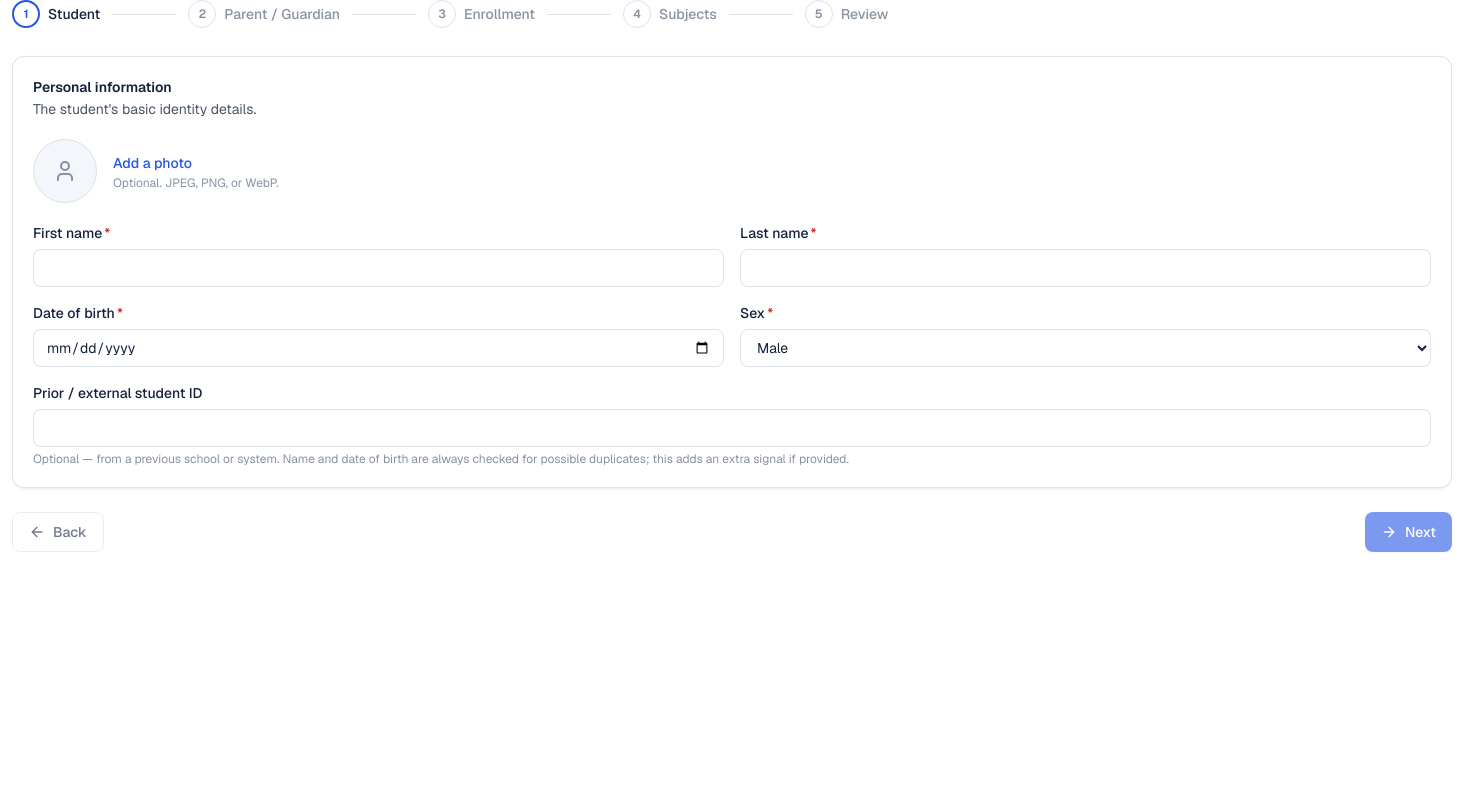
Scenario: StudentWizard — step navigation › advances through steps in order as each is completed
Check: the heading "Personal information" is shown, box [33,78,172,96]
Type "Hodan" into the field labelled "First name" at (378, 268), box [33,249,724,287]
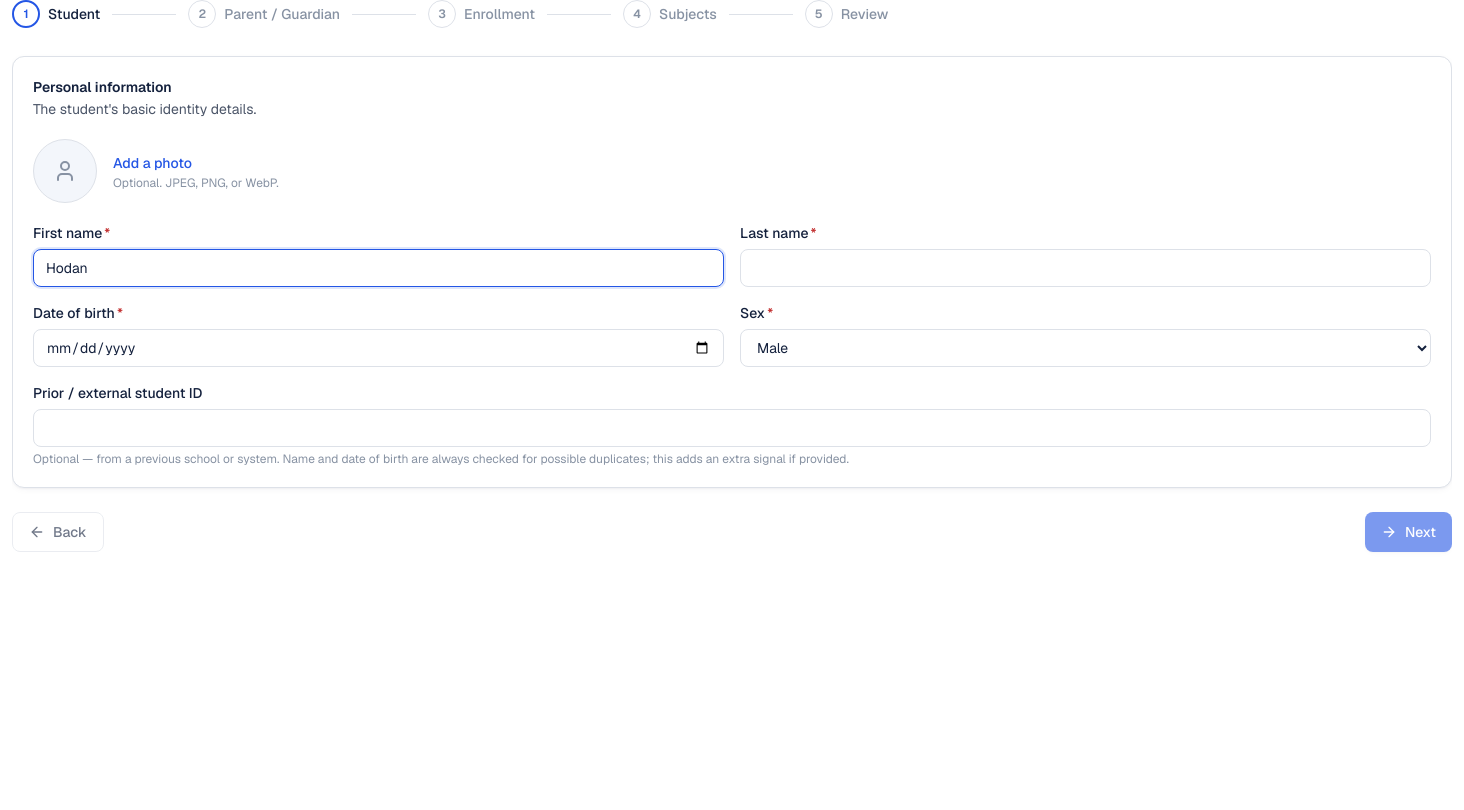
Type "Ali" into the field labelled "Last name" at (1086, 268), box [740,249,1431,287]
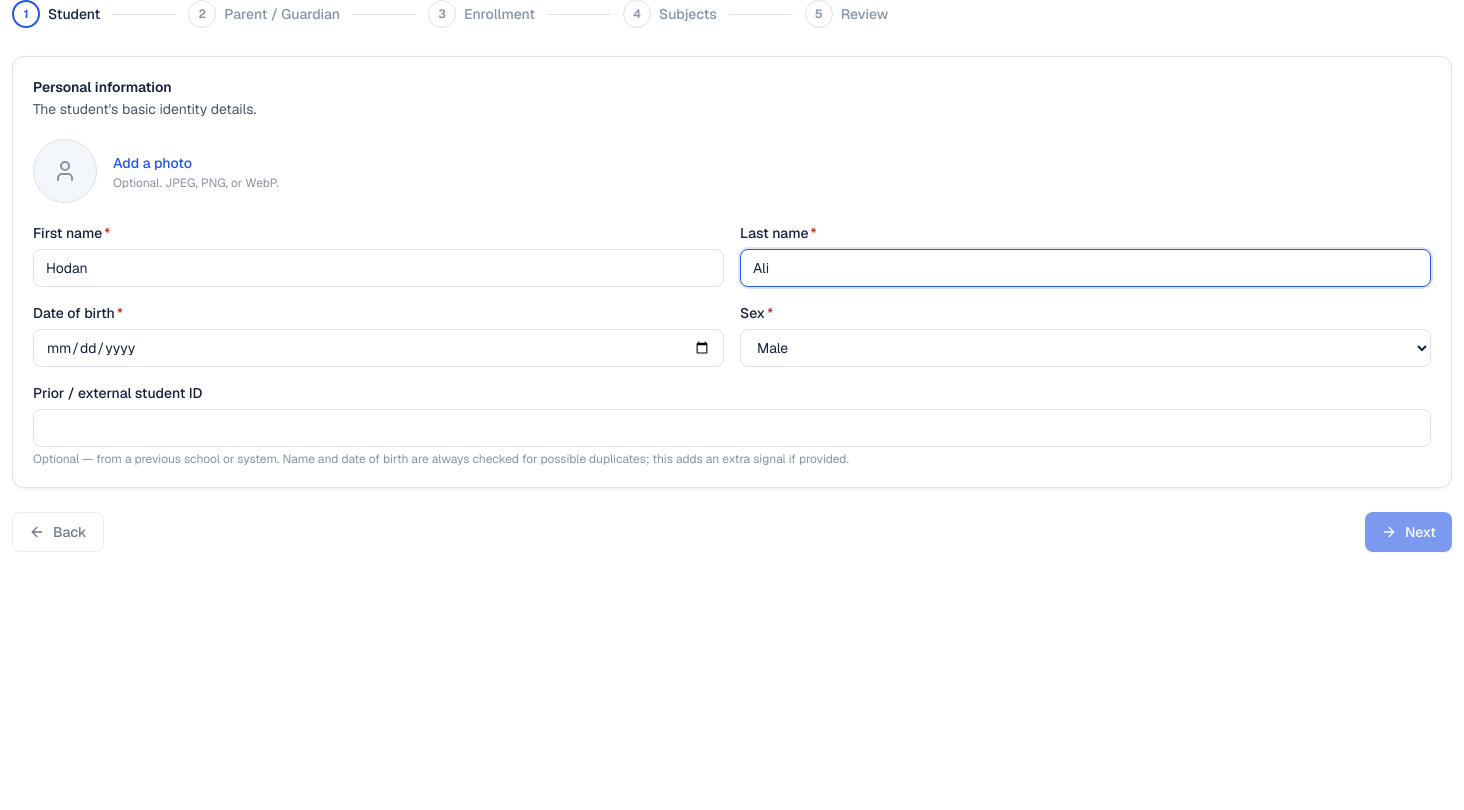
Type "2015-05-01" into the date field labelled "Date of birth" at (378, 348), box [33,329,724,367]
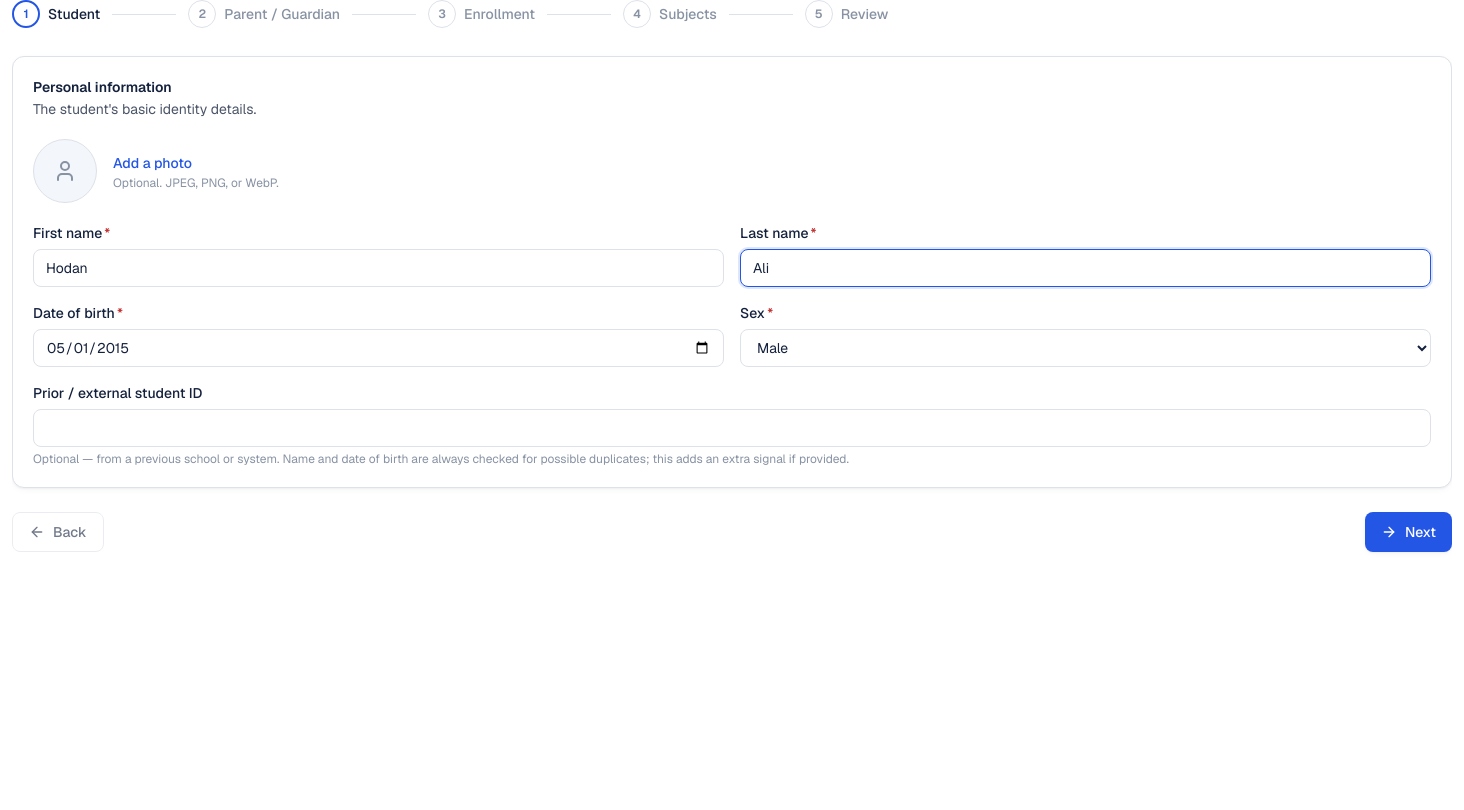
Click the button "Next" at (1408, 532), box [1365,512,1452,552]
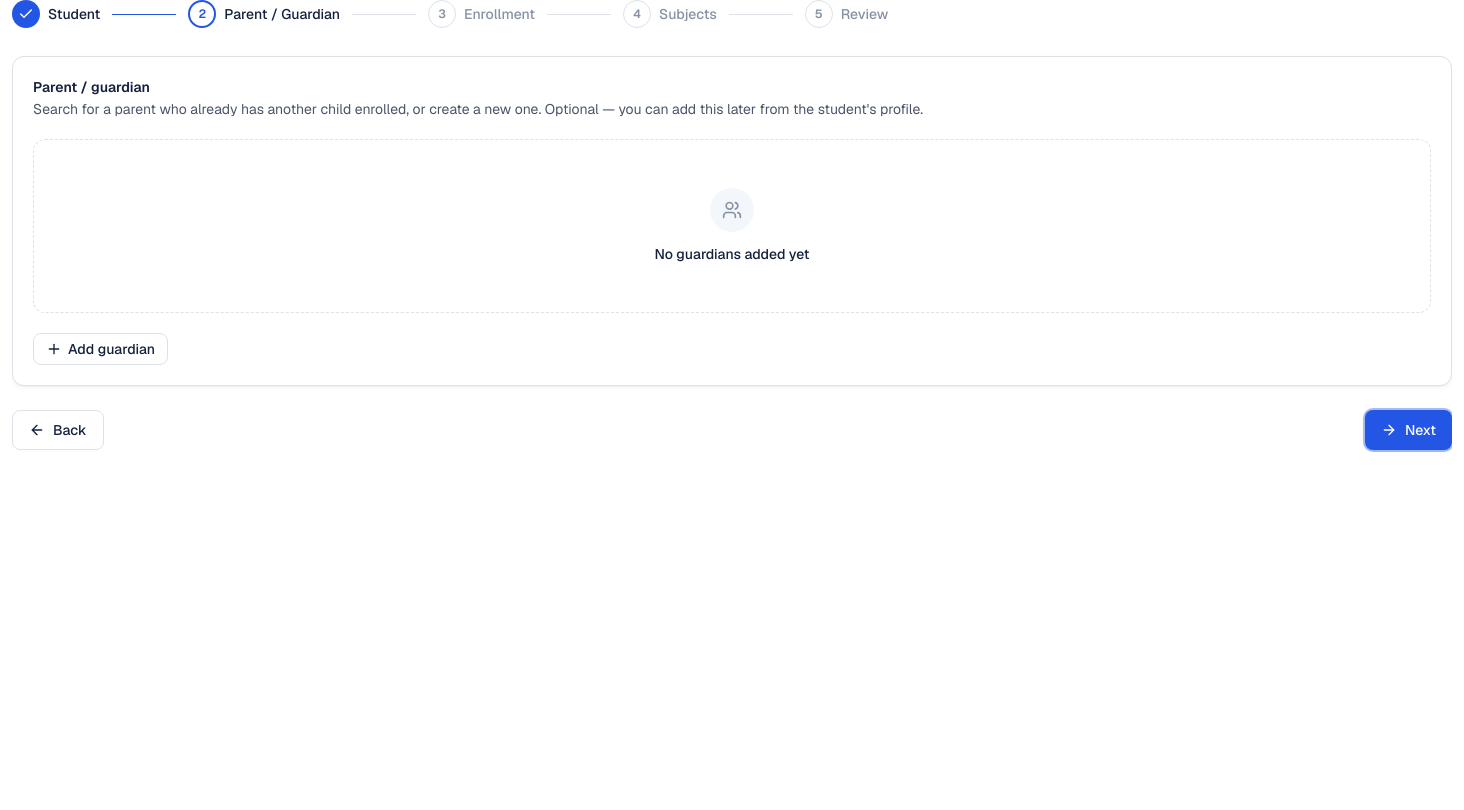
Check: the heading "Parent / guardian" is shown, box [33,78,150,96]
